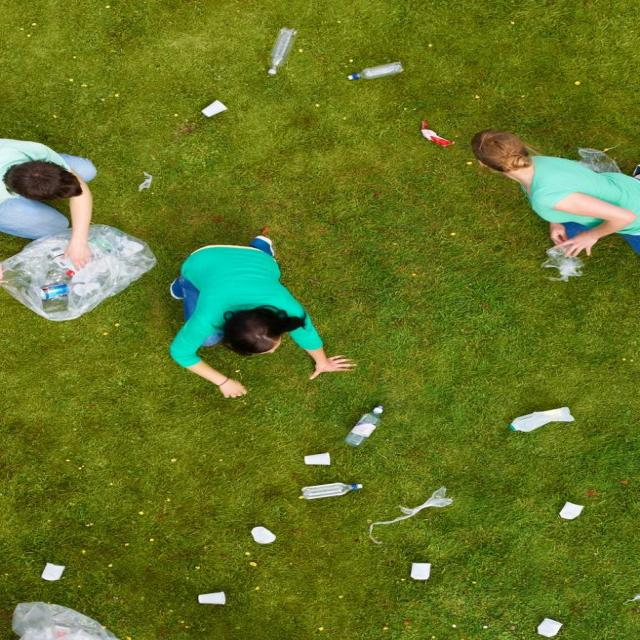bottle: (22, 250, 92, 323), (332, 48, 424, 93), (289, 469, 375, 517), (331, 393, 393, 451), (498, 398, 582, 440), (236, 12, 286, 78)
